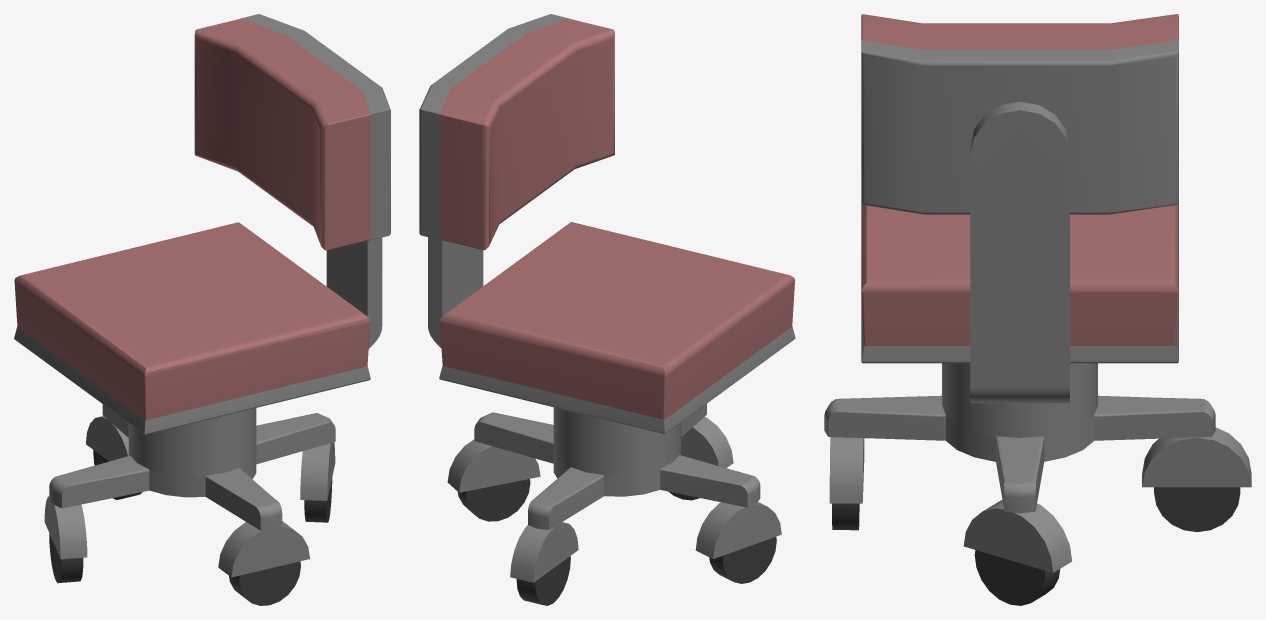
File: chair.fbx
3 views of the same model, side by side, from view 1: azimuth 30°, elevation 25°; view 2: azimuth 150°, elevation 25°; view 3: azimuth 270°, elevation 25° (orthographic). The views are drawn at different scales.
Parts seen in each view (by area): view 1: chairseat01, chairback02, chairlegs, chairbase, chairseat02, chairback01, wheelweel01, wheel01, wheelwell02, wheelwell03, wheelwell04, wheel02 (+1 smaller); view 2: chairseat01, chairback02, chairlegs, chairbase, chairseat02, chairback01, wheelwell02, wheelwell03, wheelwell04, wheel03, wheel02, wheelweel01 (+1 smaller); view 3: chairback02, chairseat01, chairback01, chairlegs, chairbase, wheelwell04, wheelwell03, chairseat02, wheel04, wheel03, wheelweel01, wheel01.
Boxes of the visible parts, x1,y1,x2,y2 form: chairseat01: (14, 222, 370, 420); chairback02: (194, 14, 390, 250); chairlegs: (49, 404, 335, 530); chairbase: (128, 408, 256, 476); chairseat02: (14, 327, 370, 434); chairback01: (326, 237, 382, 348); wheelweel01: (218, 521, 309, 577); wheel01: (229, 561, 300, 605); wheelwell02: (44, 496, 87, 559); wheelwell03: (300, 442, 335, 500); wheelwell04: (86, 416, 128, 461); wheel02: (49, 533, 83, 583); chairseat01: (439, 222, 795, 419); chairback02: (419, 14, 614, 250); chairlegs: (474, 404, 760, 529); chairbase: (553, 407, 681, 475); chairseat02: (439, 326, 795, 434); chairback01: (428, 237, 483, 348); wheelwell02: (695, 502, 781, 558); wheelwell03: (447, 439, 540, 492); wheelwell04: (510, 522, 578, 582); wheel03: (458, 479, 530, 521); wheel02: (709, 537, 776, 583); wheelweel01: (681, 417, 733, 468); chairback02: (861, 14, 1178, 214); chairseat01: (861, 204, 1178, 345); chairback01: (970, 101, 1069, 403); chairlegs: (824, 395, 1215, 513); chairbase: (942, 363, 1097, 437); wheelwell04: (1142, 427, 1251, 487); wheelwell03: (963, 500, 1071, 572); chairseat02: (861, 293, 1178, 363); wheel04: (1154, 487, 1240, 531); wheel03: (974, 550, 1060, 605); wheelweel01: (829, 437, 864, 503); wheel01: (832, 503, 859, 530).
Bounding box in the file's own units: 2.56 × 3.51 × 2.45.
